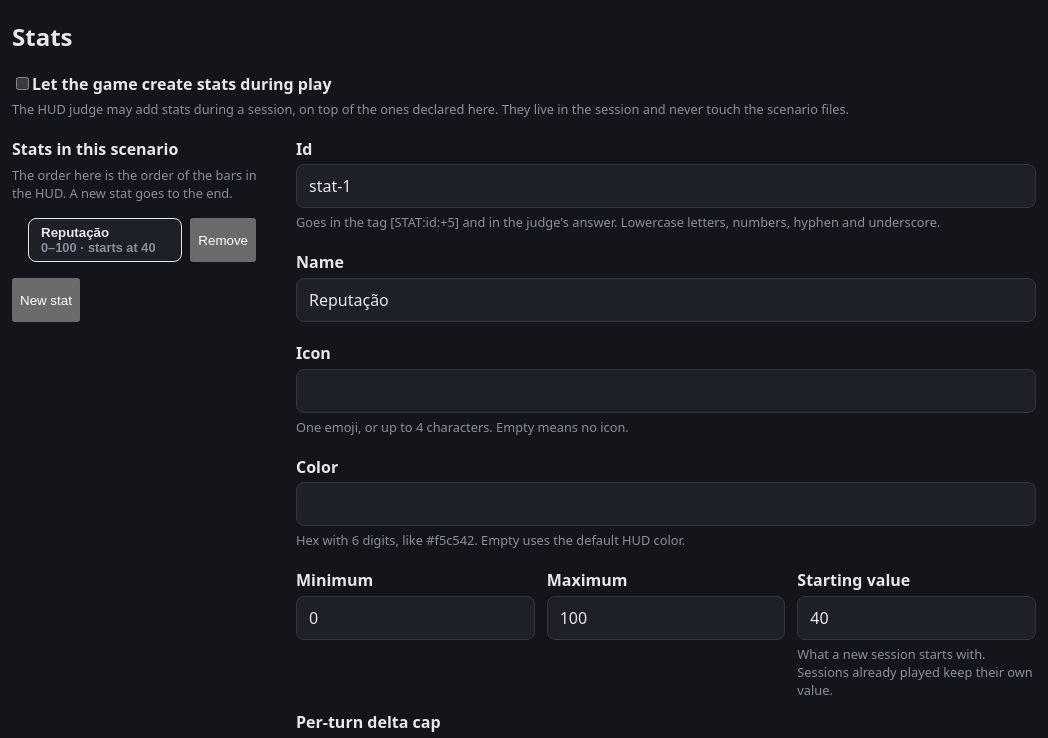
Test: StatsTab › restores the saved value when a numeric field is cleared
This screenshot has width=1048, height=738.
Clear the number field labelled "Maximum" at (666, 618), box [547, 596, 785, 640]
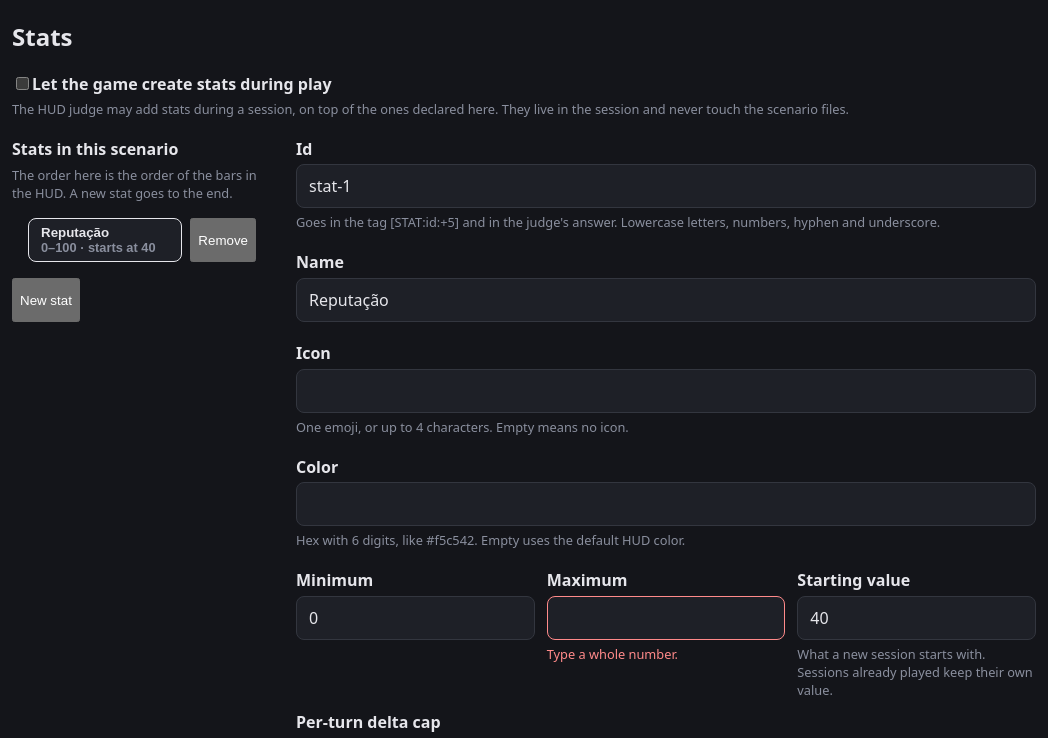
Expected: the text "Type a whole number." is shown, [547, 645, 678, 663]
Leave the number field labelled "Maximum", box [547, 596, 785, 640]
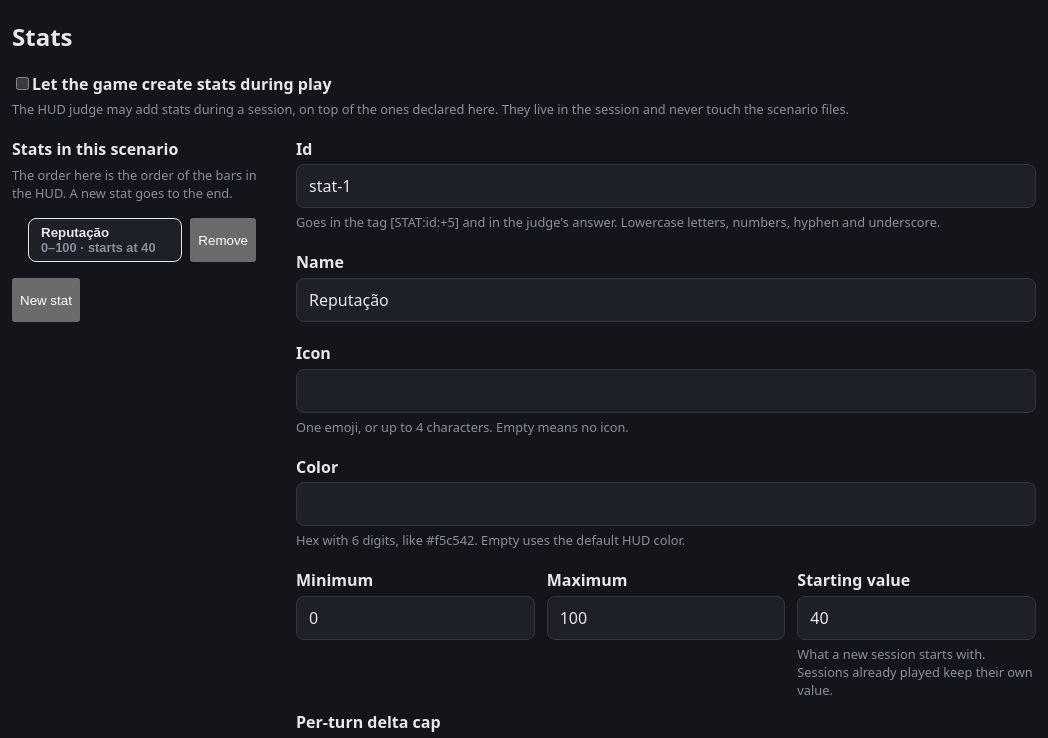
Expected: the number field labelled "Maximum" holds "100", [547, 596, 785, 640]
